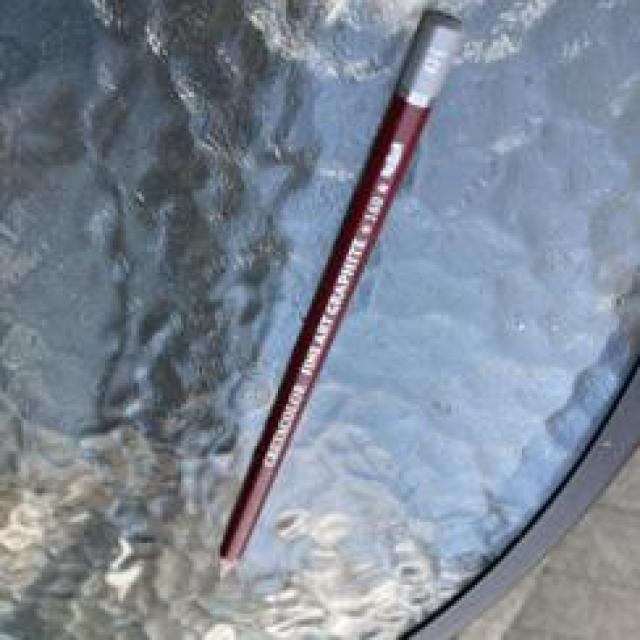pencil: (190, 4, 483, 604)
